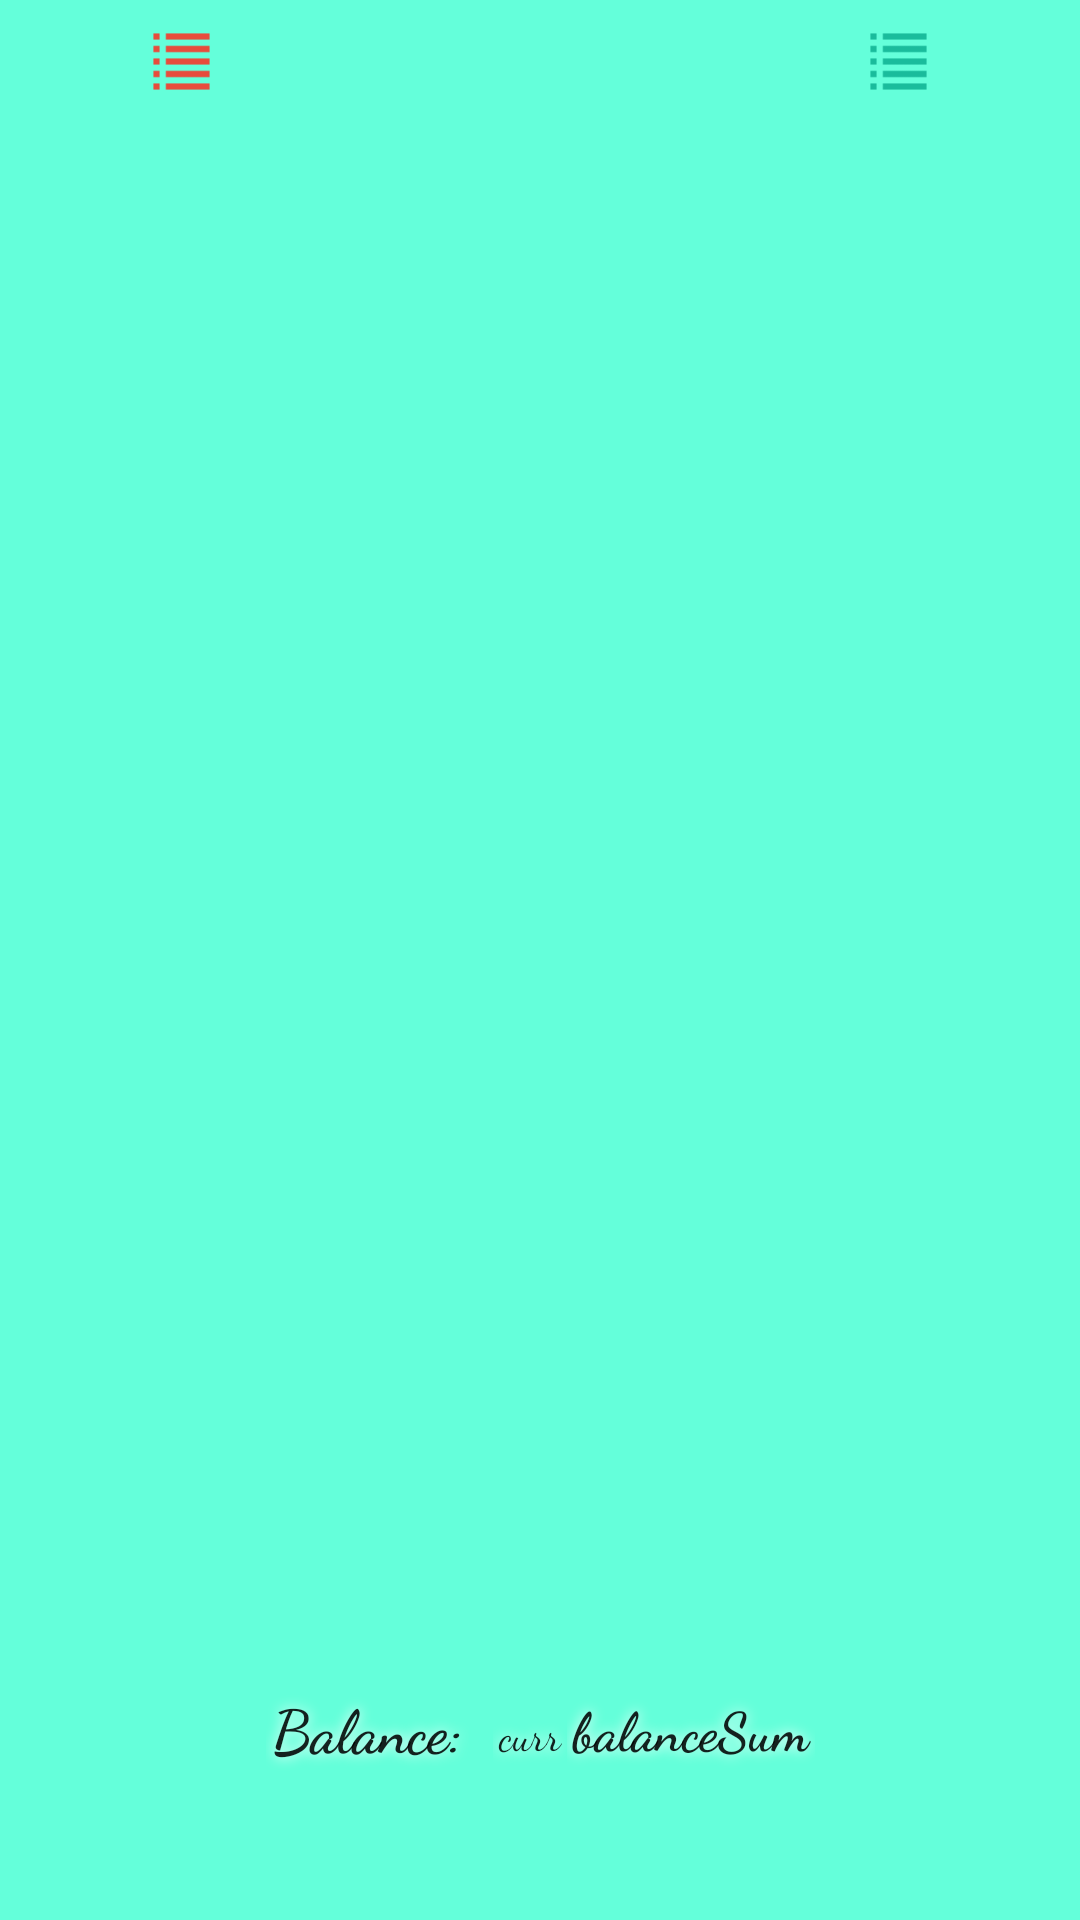

Icons on this 1080px x 1920px Android screen, each with the point to tap as (x,y):
list: (181,61), (898,61)
